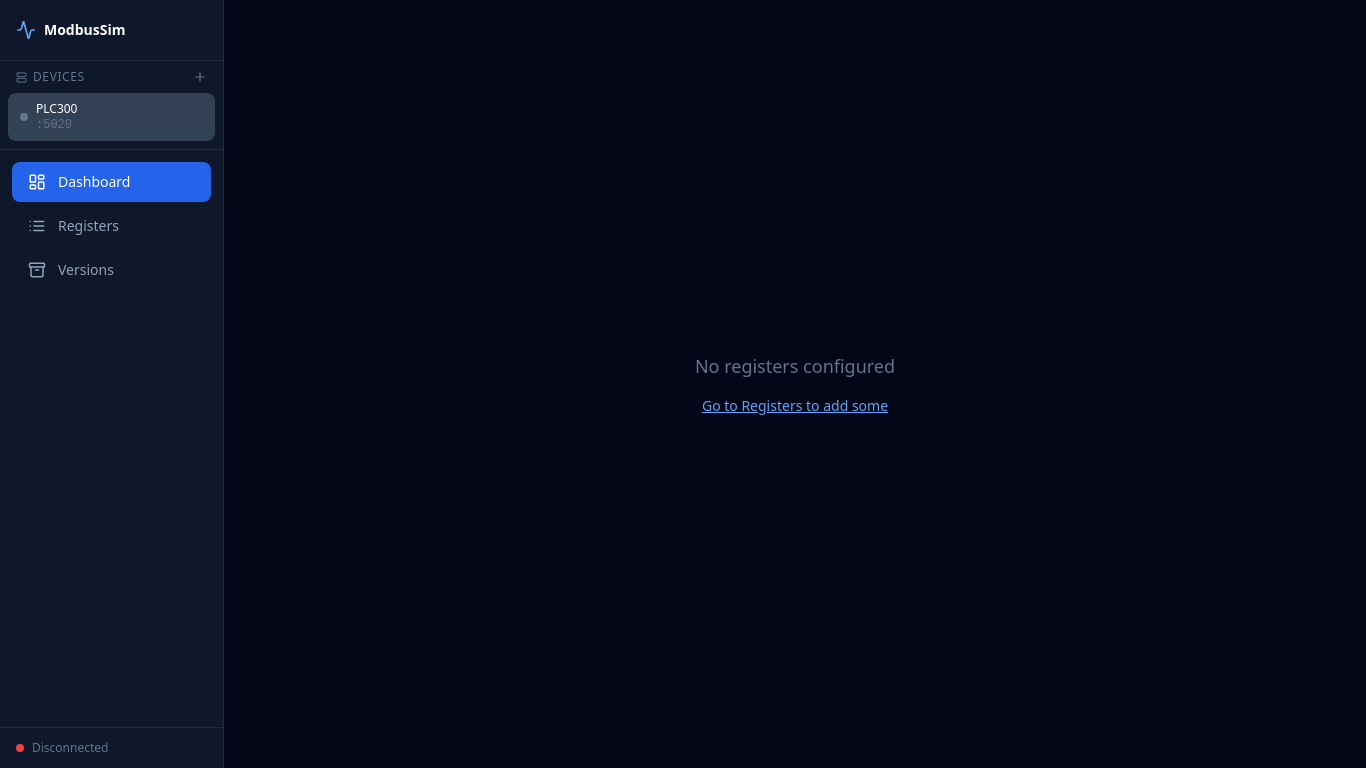
Test case: AppShell — Add Device modal › creates a device and adds it to the list
The width and height of the screenshot is (1366, 768).
Expected: the text "PLC300" is shown, [36,100,78,117]
Click the button titled "Add Device" at (200, 77), box [193,70,207,84]
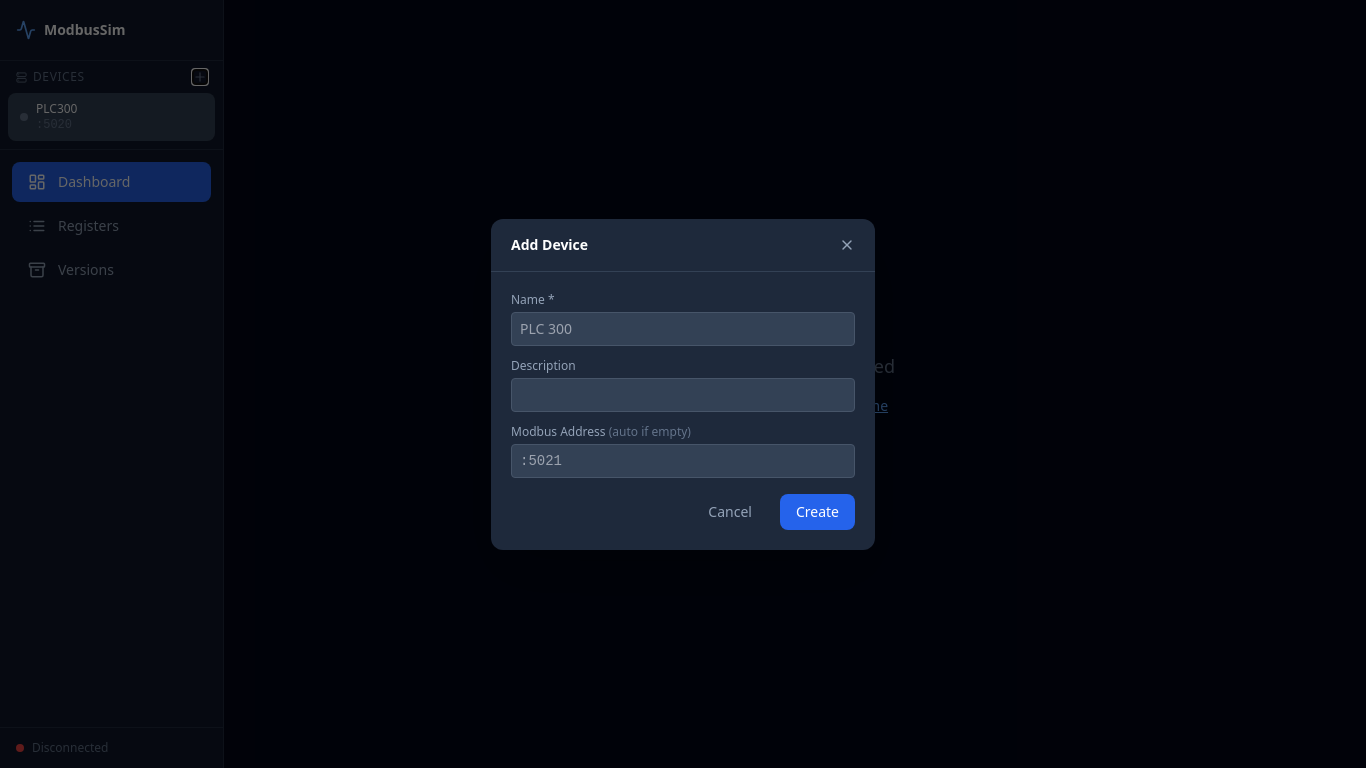
# Use placeholder to find the name input (labels lack htmlFor)
Type "Inverter" into the field with placeholder "PLC 300" at (683, 328), box [511,312,855,346]
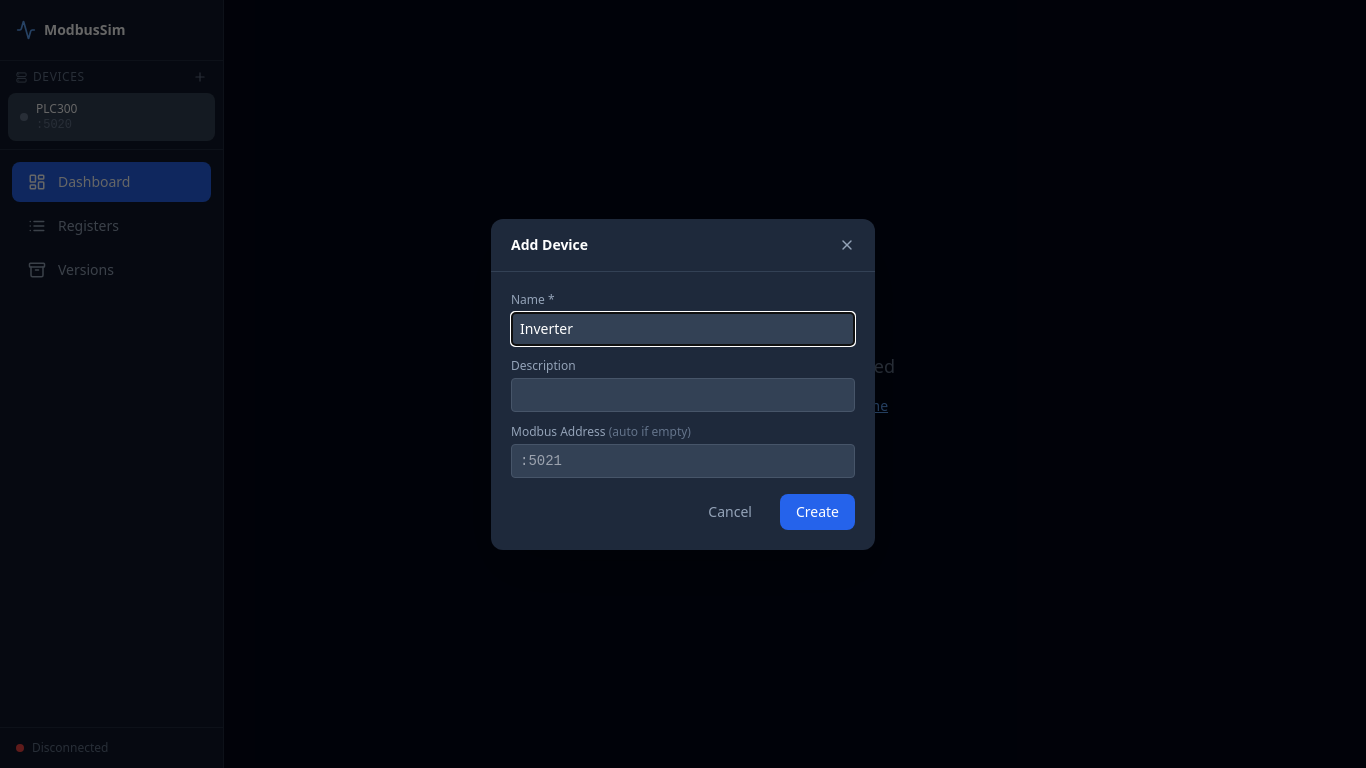
Click the button "Create" at (817, 512), box [780,494,855,530]
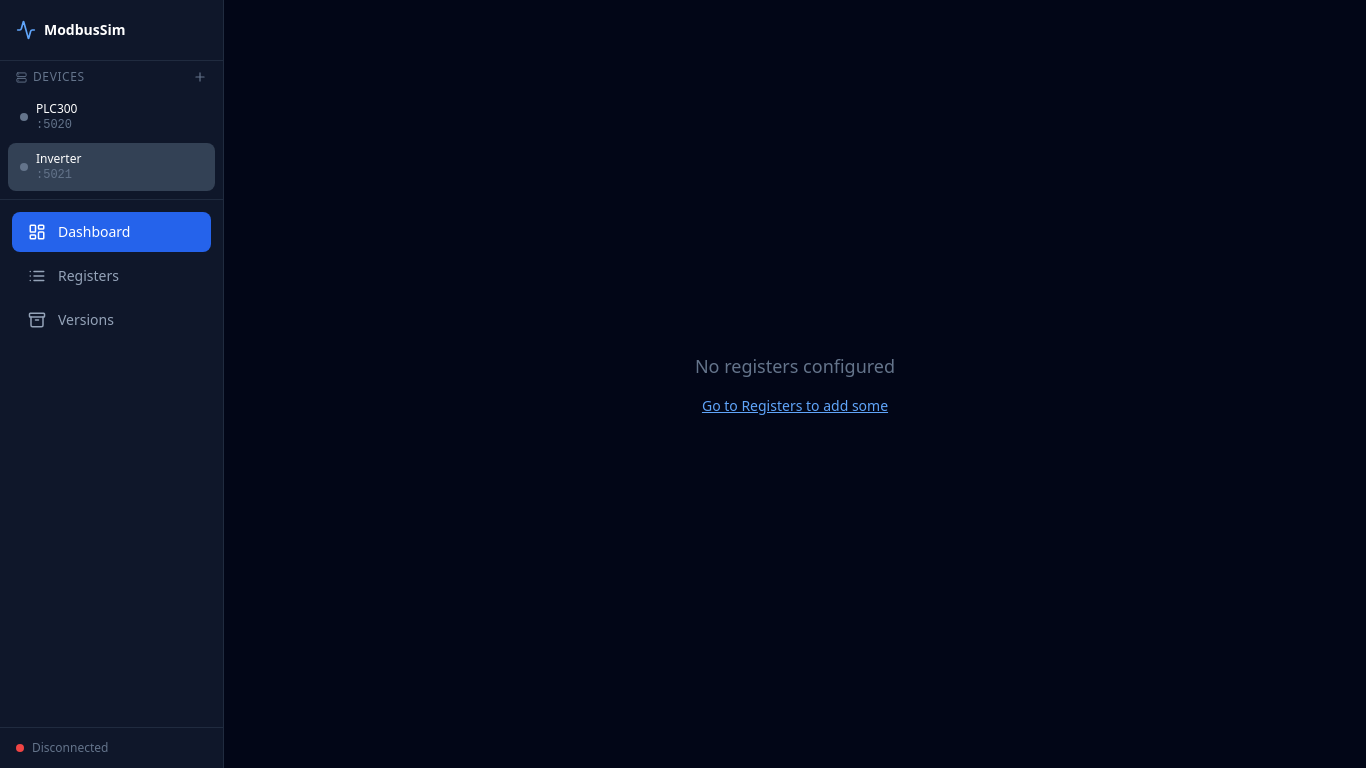
Now the heading "Add Device" is gone
